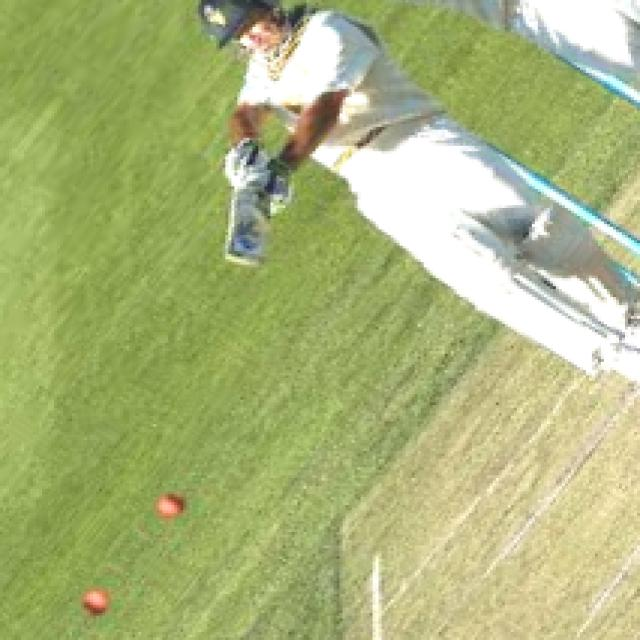toe: (220, 246, 268, 271)
